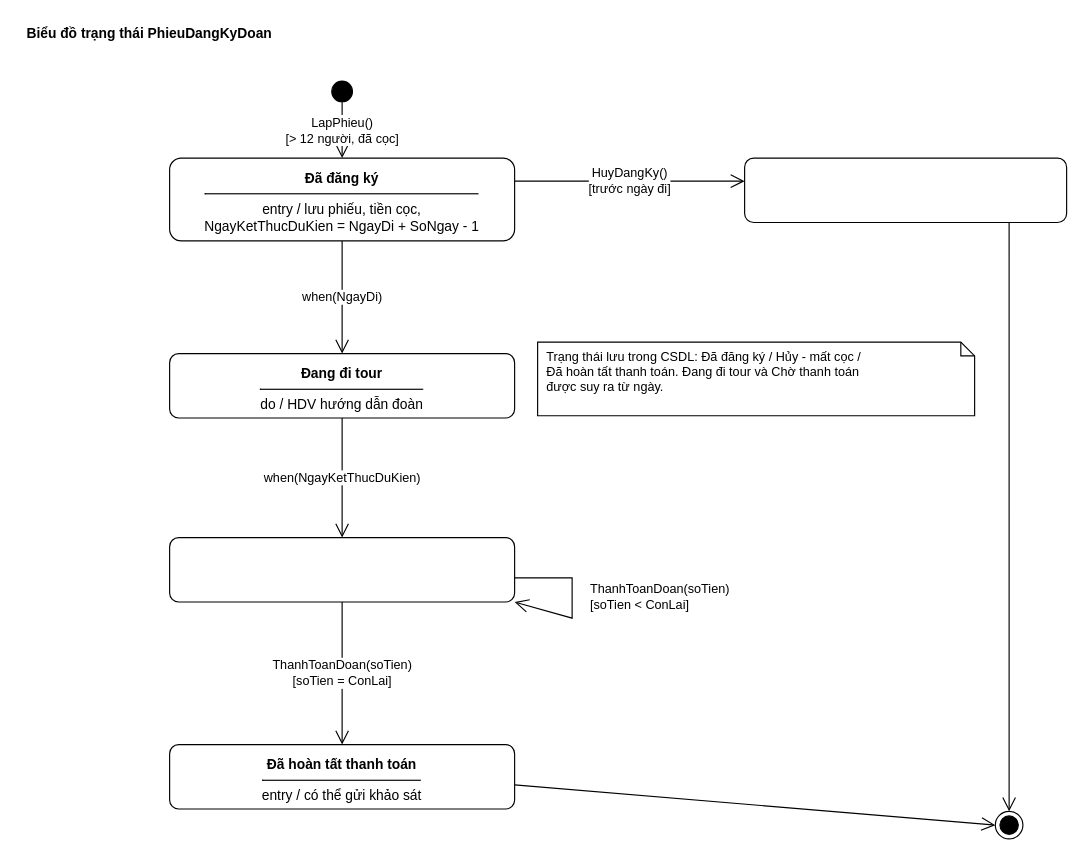
Image size: 1087x859. Some labels were removed from this diagram. The shapes that lost their labels are listed below. From the top down, each one's centre as x and y in pixels, then its label:
the point at 905,190: Hủy - mất cọc entry / gỡ phân công HDV
the point at 341,569: Chờ thanh toán do / ConLai = Tong - Coc - DaTra
